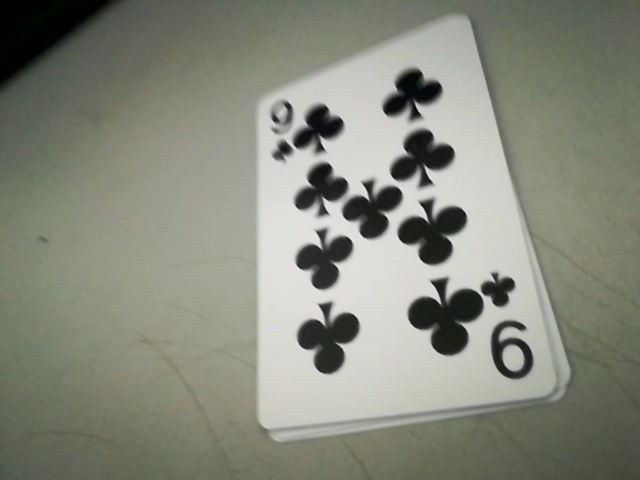mh 9: (481, 269, 540, 391)
